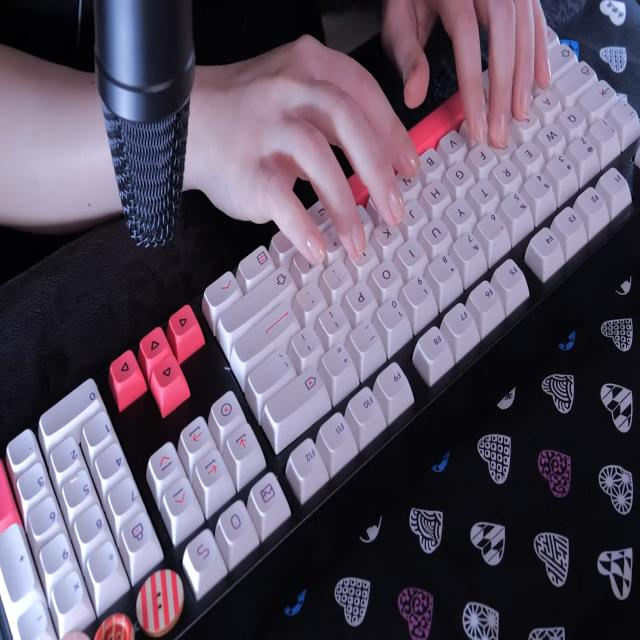keyboard-with-hands: (0, 20, 640, 640)
